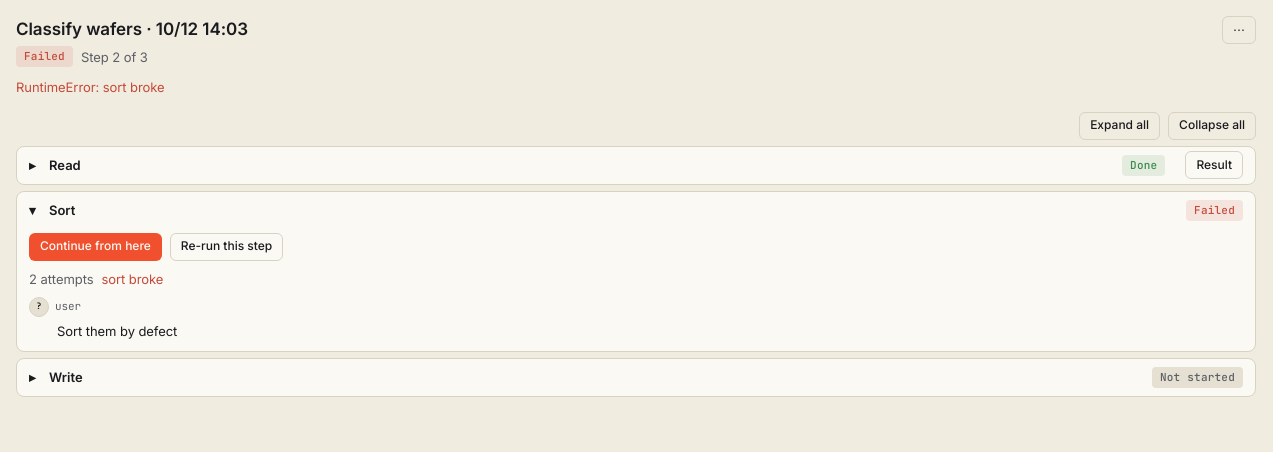
Test case: ExecutionView › a failed step › says why continuing was refused
Click the button "Continue from here" at [95, 247], box [29,233,162,261]
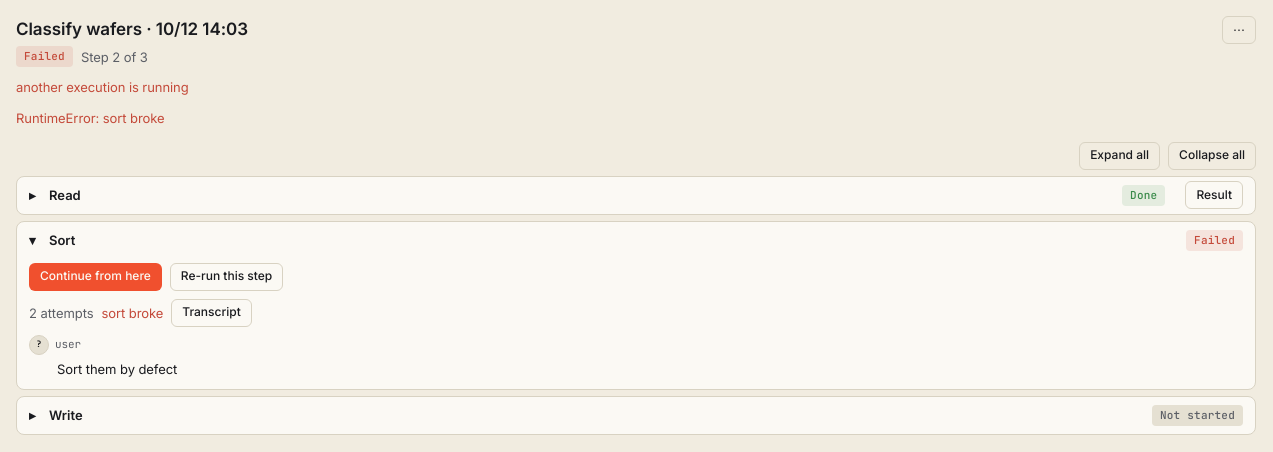
Expected: the message reads "another execution is running", [16,79,189,95]
